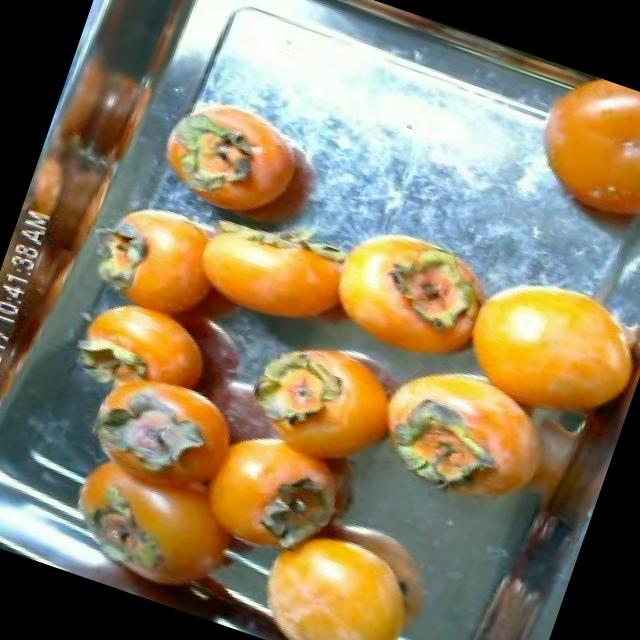Fruit: (428, 242, 640, 456), (227, 482, 460, 640), (501, 60, 640, 259)
